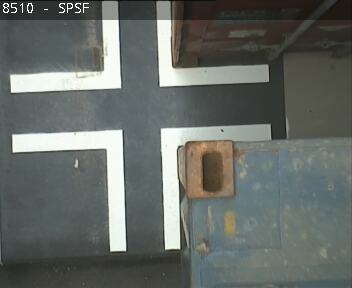groundmarker_1: (12, 121, 276, 249), (10, 1, 269, 94)
